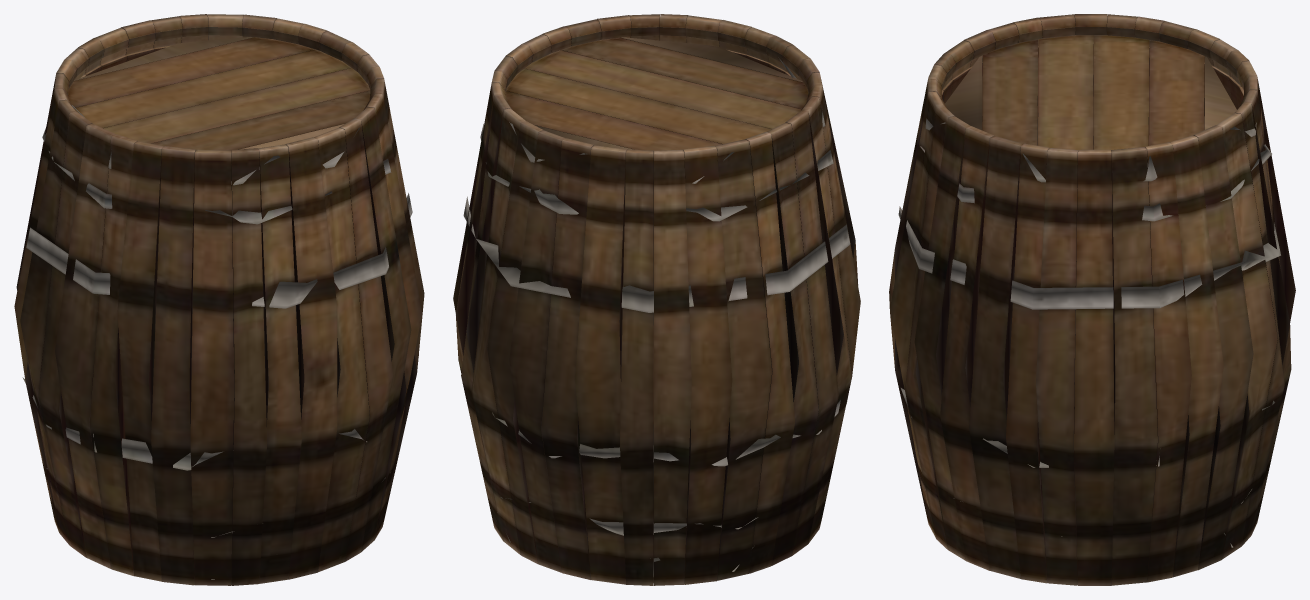
The model's file is holzfass.glb.
The picture shows the model from 3 angles, left to right: view 1: azimuth 30°, elevation 25°; view 2: azimuth 150°, elevation 25°; view 3: azimuth 270°, elevation 25°; orthographic projection.
Parts seen in each view (by area): view 1: wine_barrel_01_Lid; view 2: wine_barrel_01_Lid; view 3: wine_barrel_01_Lid.
Part boxes in pixels (x1=…): wine_barrel_01_Lid: x1=14, y1=14, x2=424, y2=585; wine_barrel_01_Lid: x1=453, y1=14, x2=860, y2=585; wine_barrel_01_Lid: x1=889, y1=14, x2=1295, y2=585.
Size of the model in its own units: 0.7391 by 0.8695 by 0.7405.
1 material, 1 textured.
